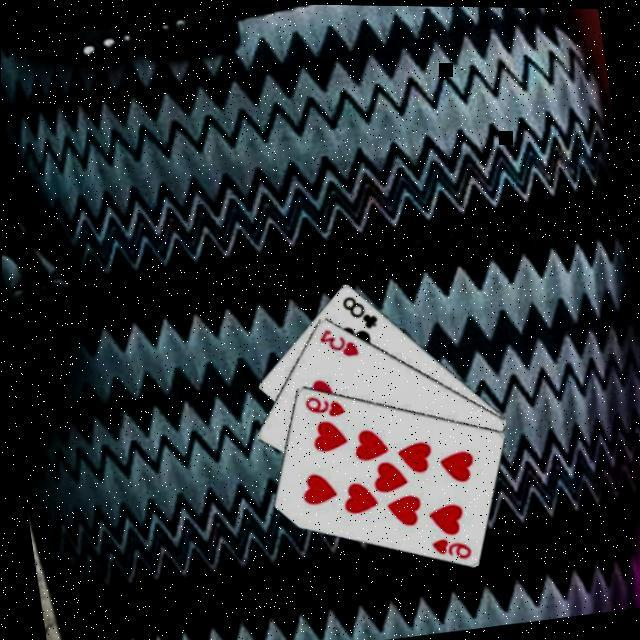3H: (316, 319, 364, 362)
8C: (340, 286, 383, 332)
9H: (428, 528, 476, 563), (302, 387, 349, 422)
